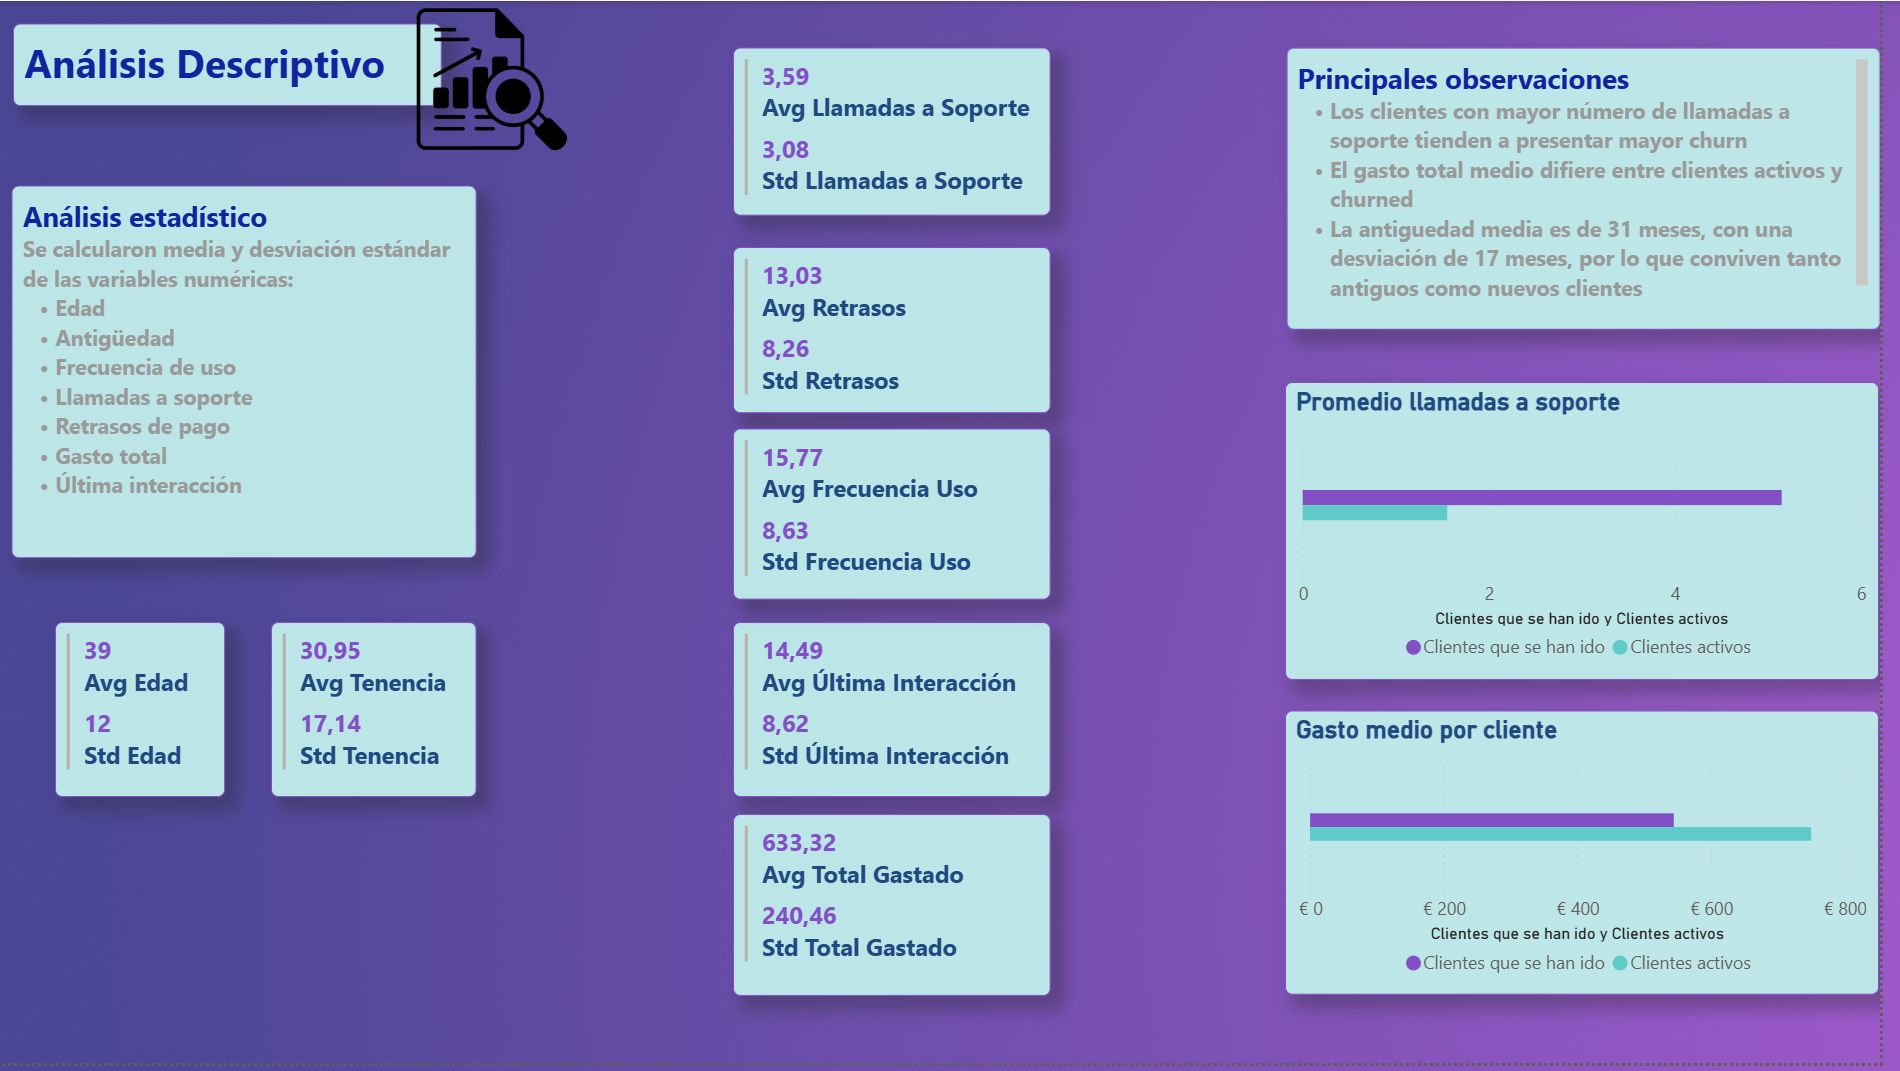

This screenshot's page, from the dashboard's own definition file:
{"tool":"powerbi","page":{"name":"7 - Análisis Descriptivo","canvas":[1280,720],"ordinal":6},"visuals":[{"type":"textbox","box":[13.5,125.1,315.6,252.5],"z":0},{"type":"textbox","box":[878,31.6,402.4,191.6],"z":1000},{"type":"clusteredBarChart","title":"Promedio llamadas a soporte","fields":{"Y":["Funciones DAX.Media llamadas a soporte – Churned","Funciones DAX.Media llmaadas a soporte – Active"]},"box":[876.9,258.1,402.4,201.8],"z":2000},{"type":"clusteredBarChart","title":"Gasto medio por cliente","fields":{"Y":["Funciones DAX.Gasto medio por cliente entre los que han hecho churn","Funciones DAX.Gasto medio por clientes activos"]},"box":[876.9,481.3,402.4,192.7],"z":3000},{"type":"textbox","box":[14,15.1,290.7,55.8],"z":4000},{"type":"multiRowCard","fields":{"Values":["Funciones DAX.Avg Age","Funciones DAX.Std Age"]},"box":[43,420.9,115.1,118.6],"z":5000},{"type":"multiRowCard","fields":{"Values":["Funciones DAX.Avg Last Interaction","Funciones DAX.Std Last Interaction"]},"box":[502.3,420.9,215.1,118.6],"z":6000},{"type":"multiRowCard","fields":{"Values":["Funciones DAX.Avg PAyment Delay","Funciones DAX.Std Retrasos"]},"box":[502.3,166.3,215.1,112.8],"z":7000},{"type":"multiRowCard","fields":{"Values":["Funciones DAX.Avg Support Calls","Funciones DAX.Std Support Calls"]},"box":[502.3,31.4,215.1,114],"z":8000},{"type":"multiRowCard","fields":{"Values":["Funciones DAX.Avg Tenure","Funciones DAX.Std Tenure"]},"box":[189.5,420.9,139.5,118.6],"z":9000},{"type":"multiRowCard","fields":{"Values":["Funciones DAX.Avg Total Spend","Funciones DAX.Std Total Spend"]},"box":[502.3,551.2,215.1,123.3],"z":10000},{"type":"multiRowCard","fields":{"Values":["Funciones DAX.Avg Usage Frequency","Funciones DAX.Std Usage Frequency"]},"box":[502.3,289.5,215.1,116.3],"z":11000},{"type":"image","box":[286,0,105.8,105.8],"z":12000}]}

Visuals, with their boxes in screenshot pixels (x1, y1, x2, y2), scaled from the page's 1280x720 canvas onto the 1900x1071 screenshot:
textbox: <region>20, 186, 489, 562</region>
textbox: <region>1303, 47, 1899, 332</region>
"Promedio llamadas a soporte" clusteredBarChart: <region>1302, 384, 1899, 684</region>
"Gasto medio por cliente" clusteredBarChart: <region>1302, 716, 1899, 1003</region>
textbox: <region>21, 22, 452, 105</region>
multiRowCard - Funciones DAX.Avg Age x Funciones DAX.Std Age: <region>64, 626, 235, 803</region>
multiRowCard - Funciones DAX.Avg Last Interaction x Funciones DAX.Std Last Interaction: <region>746, 626, 1065, 803</region>
multiRowCard - Funciones DAX.Avg PAyment Delay x Funciones DAX.Std Retrasos: <region>746, 247, 1065, 415</region>
multiRowCard - Funciones DAX.Avg Support Calls x Funciones DAX.Std Support Calls: <region>746, 47, 1065, 216</region>
multiRowCard - Funciones DAX.Avg Tenure x Funciones DAX.Std Tenure: <region>281, 626, 488, 803</region>
multiRowCard - Funciones DAX.Avg Total Spend x Funciones DAX.Std Total Spend: <region>746, 820, 1065, 1003</region>
multiRowCard - Funciones DAX.Avg Usage Frequency x Funciones DAX.Std Usage Frequency: <region>746, 431, 1065, 604</region>
image: <region>425, 0, 582, 157</region>
